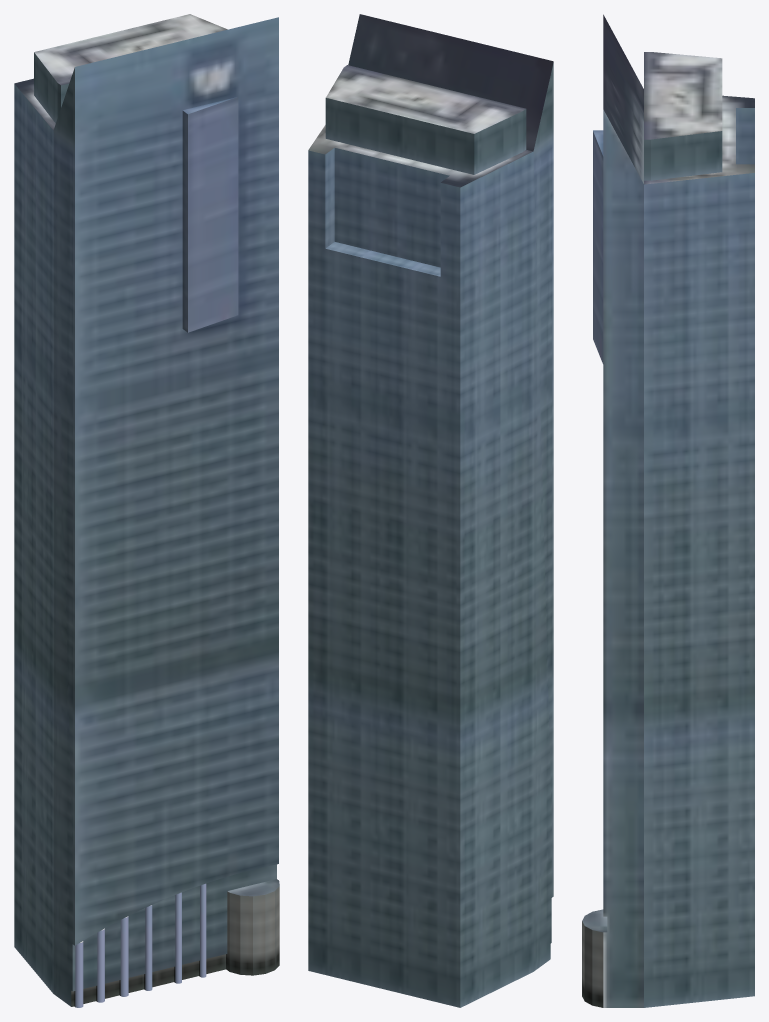
File: new_world_center_d5de7168.glb
3 views of the same model, side by side, from view 1: azimuth 30°, elevation 25°; view 2: azimuth 150°, elevation 25°; view 3: azimuth 270°, elevation 25° (orthographic). The views are drawn at different scales.
Parts seen in each view (by area): view 1: new_world_center_d5de7168; view 2: new_world_center_d5de7168; view 3: new_world_center_d5de7168.
Part boxes in pixels (x1,y1,x2,y2): new_world_center_d5de7168: (14, 14, 279, 1007); new_world_center_d5de7168: (308, 14, 553, 1007); new_world_center_d5de7168: (582, 14, 754, 1007).
Bounding box in the file's own units: 53.96 × 238 × 41.46.
Materials: 1 (1 with a texture image).
